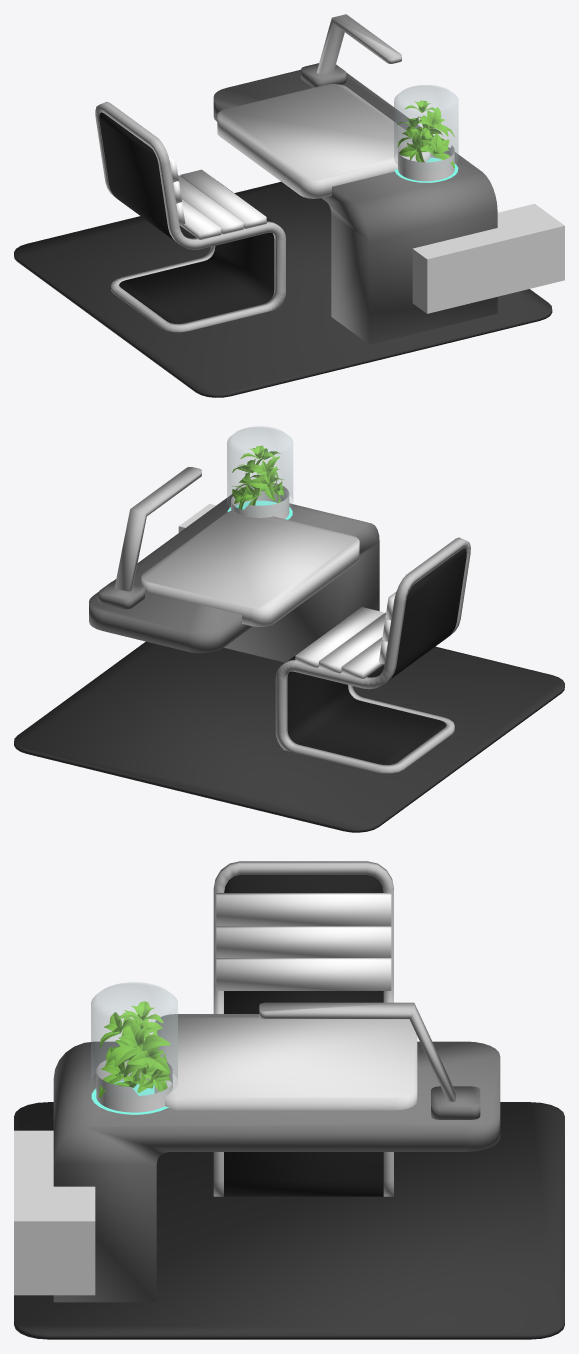
File: sci-fi-office.glb
3 views of the same model, one above another, from view 1: azimuth 30°, elevation 25°; view 2: azimuth 150°, elevation 25°; view 3: azimuth 270°, elevation 25° (orthographic). The views are drawn at different scales.
Visible parts, largest first — view 1: Floor.001, Plane.010, Cube, Chair, Cube.001, Plane.002, Circle, Plane.003, Plane.005, Plant, Lamp; view 2: Floor.001, Plane.010, Cube, Chair, Plane.002, Circle, Plane.003, Plane.005, Plant, Lamp; view 3: Floor.001, Plane.010, Cube, Plane.003, Chair, Cube.001, Circle, Plane.002, Plane.005, Plant, Lamp, Plane.064 (+2 smaller).
Boxes of the visible parts, x1,y1,x2,y2 form: Floor.001: (14, 181, 552, 397); Plane.010: (213, 69, 497, 344); Cube: (217, 84, 430, 198); Chair: (99, 112, 275, 323); Cube.001: (412, 203, 564, 313); Plane.002: (95, 102, 285, 332); Circle: (394, 85, 458, 171); Plane.003: (168, 154, 266, 239); Plane.005: (316, 14, 401, 74); Plant: (398, 141, 454, 182); Lamp: (301, 63, 346, 87); Floor.001: (14, 641, 564, 832); Plane.010: (89, 494, 379, 662); Cube: (141, 509, 359, 626); Chair: (287, 548, 466, 764); Plane.002: (275, 537, 470, 773); Circle: (227, 426, 292, 515); Plane.003: (295, 591, 396, 678); Plane.005: (114, 467, 201, 591); Plant: (231, 483, 289, 518); Lamp: (98, 580, 144, 609); Floor.001: (14, 1102, 564, 1339); Plane.010: (53, 1041, 500, 1302); Cube: (154, 1014, 417, 1110); Plane.003: (216, 893, 391, 990); Chair: (224, 875, 383, 1196); Cube.001: (14, 1130, 95, 1295); Circle: (91, 982, 177, 1099); Plane.002: (213, 861, 393, 1196); Plane.005: (259, 1002, 455, 1101); Plant: (96, 1056, 172, 1114); Lamp: (431, 1086, 480, 1119); Plane.064: (114, 1017, 170, 1067).
Size of the model in its own units: 5.57 by 3.13 by 5.52.
